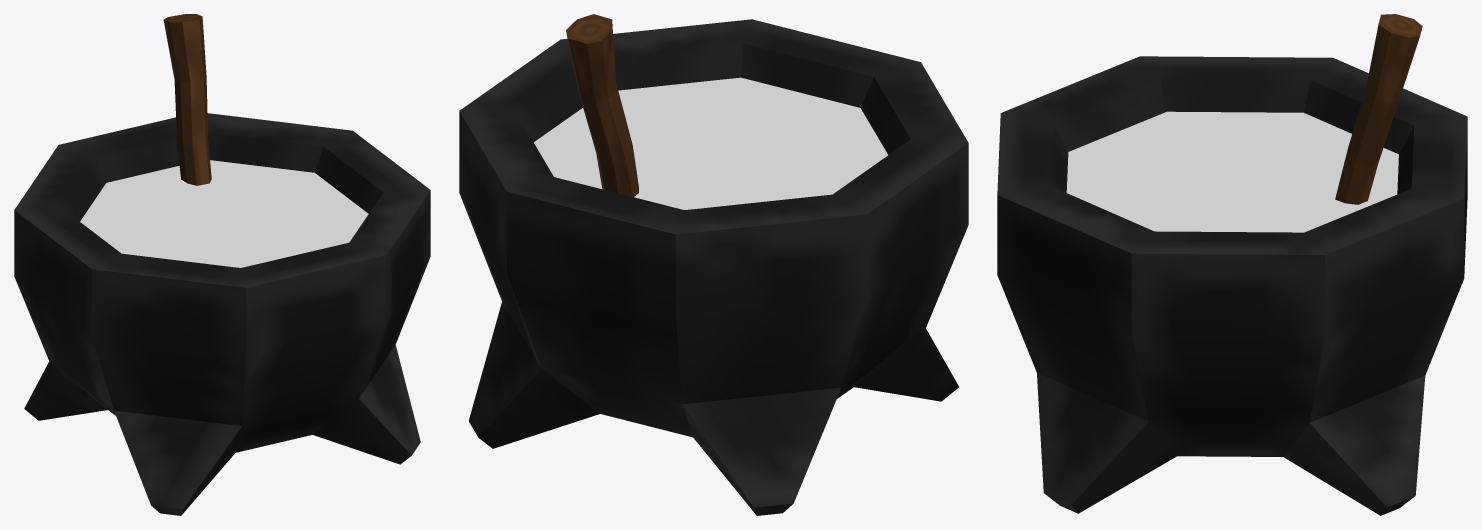
File: Caudron.fbx
3 renders of one model, left to right at view 1: azimuth 30°, elevation 25°; view 2: azimuth 150°, elevation 25°; view 3: azimuth 270°, elevation 25°, orthographic. The views are drawn at different scales.
Parts seen in each view (by area): view 1: Cylinder, Cylinder.001, Cube; view 2: Cylinder, Cylinder.001, Cube; view 3: Cylinder, Cylinder.001, Cube.
Part boxes in pixels (x1,y1,x2,y2): Cylinder: (14,113,430,515); Cylinder.001: (80,160,368,267); Cube: (163,14,211,185); Cylinder: (459,19,968,515); Cylinder.001: (534,77,887,209); Cube: (566,14,638,197); Cylinder: (997,56,1467,515); Cylinder.001: (1066,111,1398,232); Cube: (1335,14,1422,204).
Bounding box in the file's own units: 186 × 193 × 186.
